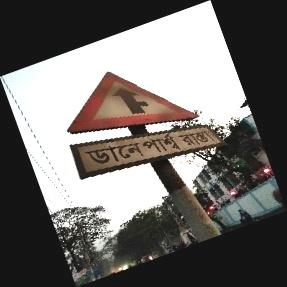Side-road-right: (66, 72, 224, 176)
